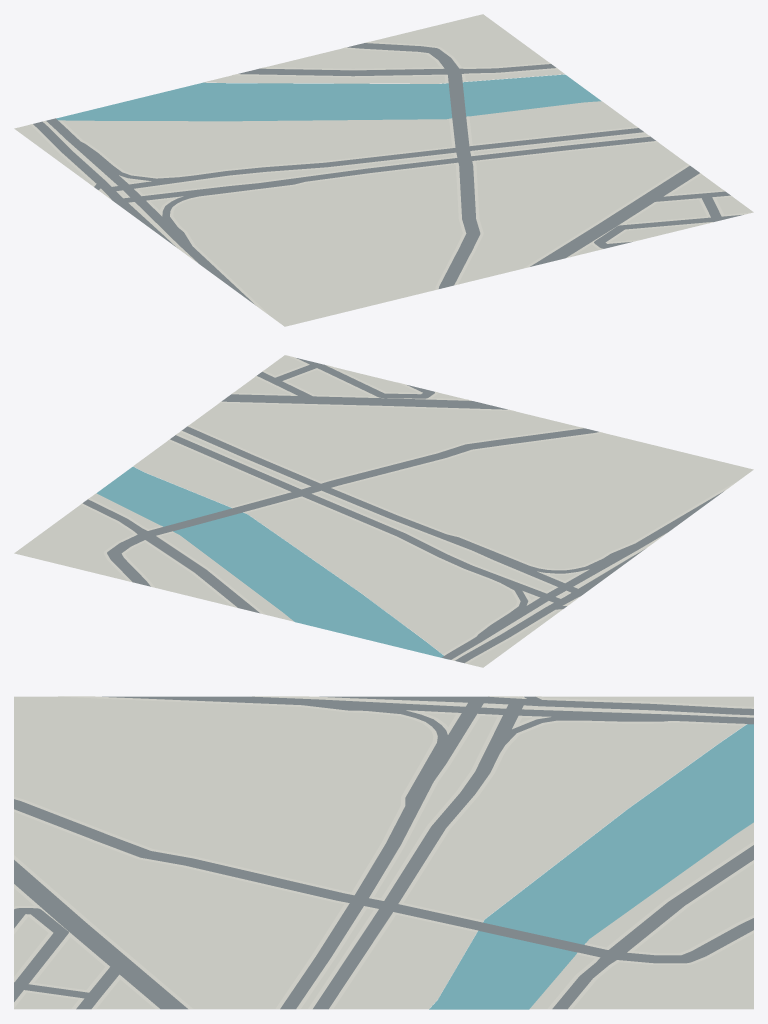
The picture shows the model from 3 angles, top to bottom: view 1: azimuth 30°, elevation 25°; view 2: azimuth 150°, elevation 25°; view 3: azimuth 270°, elevation 25°; orthographic projection. The views are drawn at different scales.
Visible parts, largest first — view 1: city; view 2: city; view 3: city.
Part boxes in pixels (x1,y1,x2,y2): city: (14, 14, 753, 326); city: (14, 355, 753, 667); city: (14, 696, 753, 1009).
Bounding box in the file's own units: 500 × 0.4 × 500.
